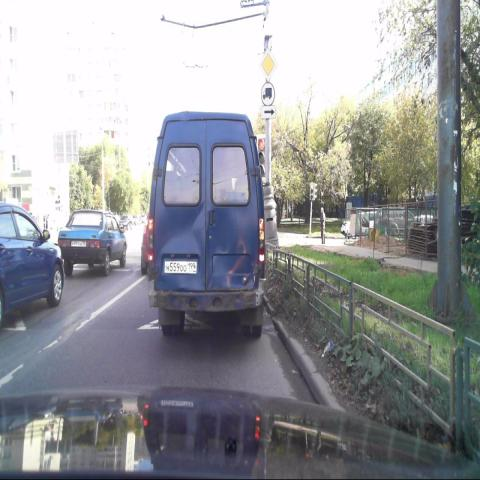3_4_1: (260, 81, 276, 108)
